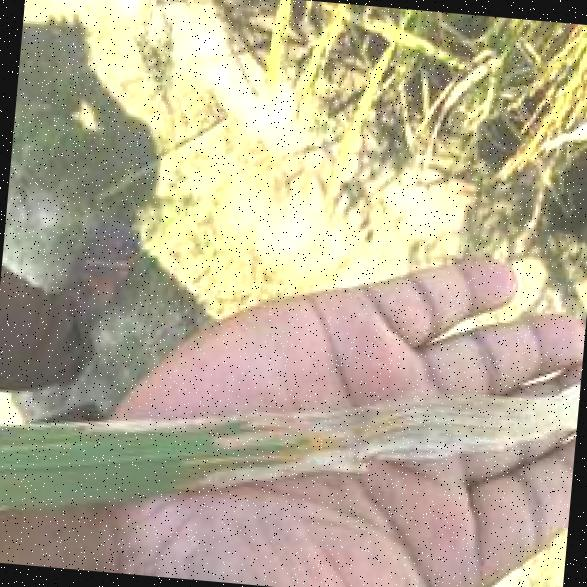Bacteria_Leaf_Blight: (158, 376, 554, 472)
